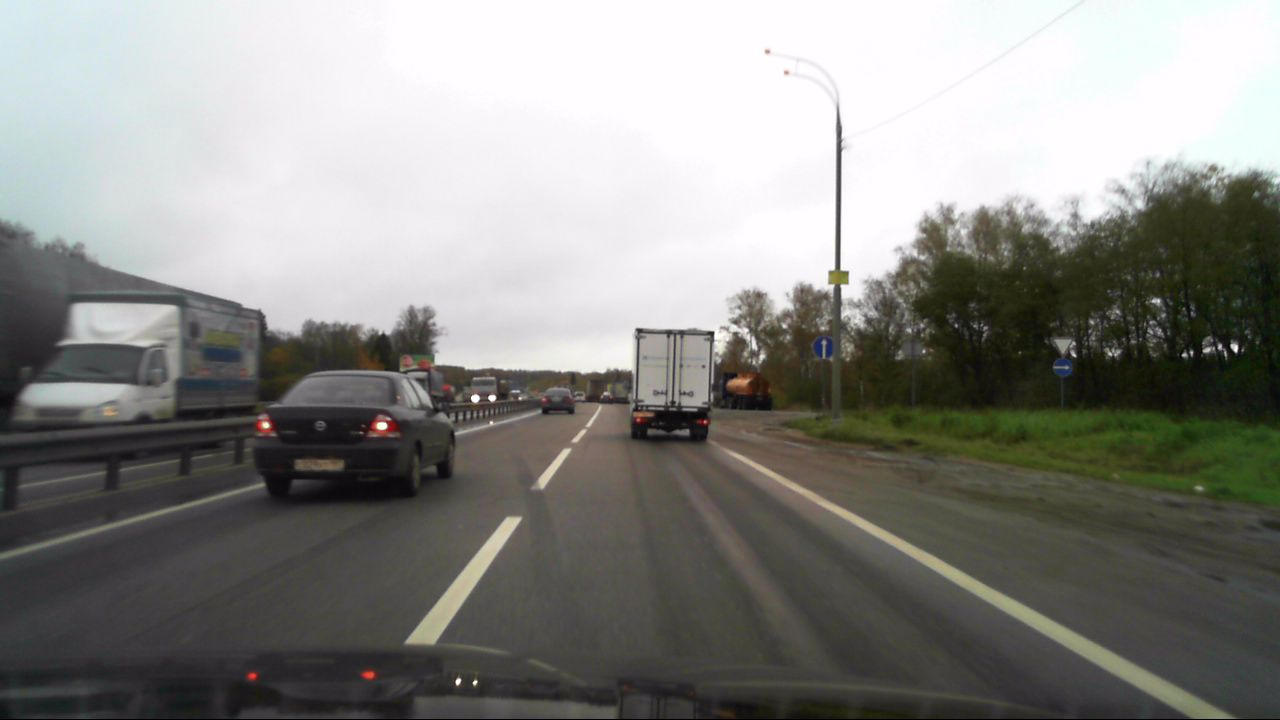Turn Right: (1051, 358, 1073, 377)
